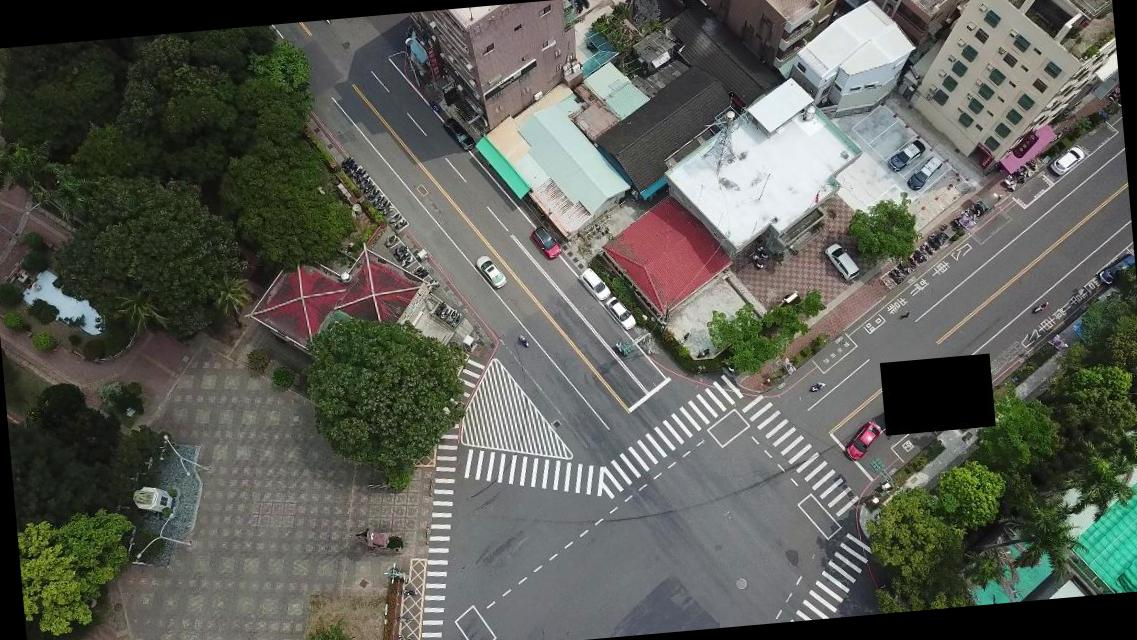vehicle: (840, 422, 884, 458), (824, 242, 860, 282), (1094, 252, 1135, 286), (885, 140, 926, 172), (578, 265, 613, 302), (904, 157, 942, 190), (474, 254, 507, 292), (530, 225, 563, 262), (442, 116, 474, 153), (604, 296, 636, 332), (1047, 148, 1085, 178)
